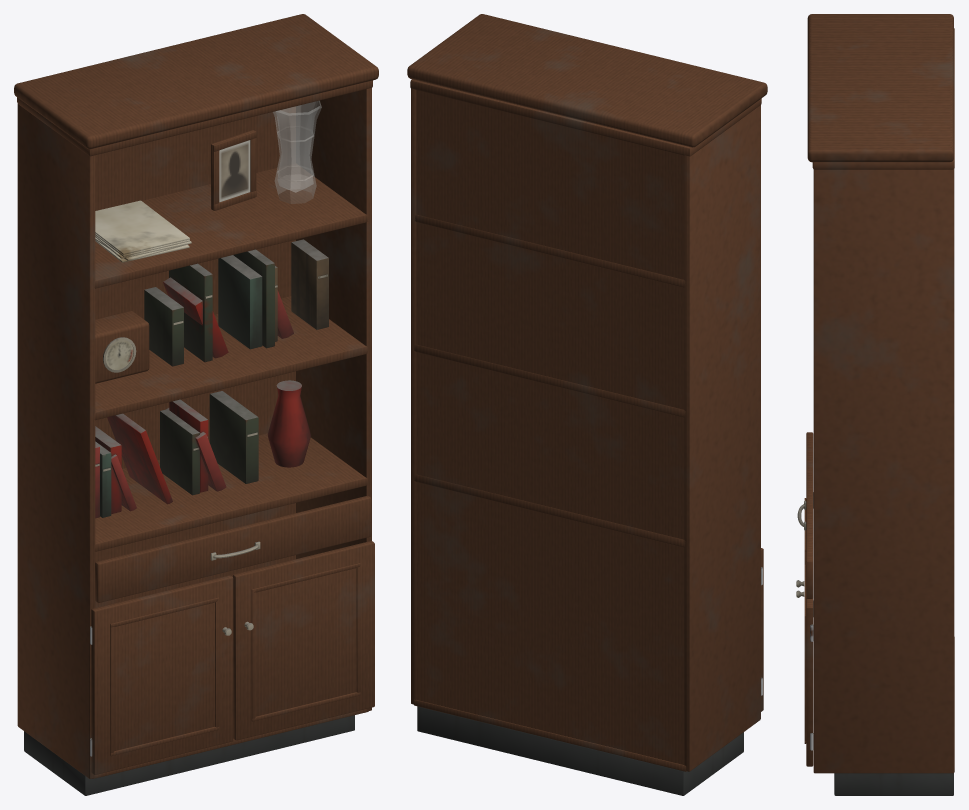
File: SM_WallUnit_Shelves.fbx
3 views of the same model, side by side, from view 1: azimuth 30°, elevation 25°; view 2: azimuth 150°, elevation 25°; view 3: azimuth 270°, elevation 25° (orthographic). The views are drawn at different scales.
Parts seen in each view (by area): view 1: SM_WallUnit_Shelves; view 2: SM_WallUnit_Shelves; view 3: SM_WallUnit_Shelves.
Part boxes in pixels (x1,y1,x2,y2): SM_WallUnit_Shelves: [14, 14, 378, 795]; SM_WallUnit_Shelves: [407, 14, 767, 795]; SM_WallUnit_Shelves: [796, 14, 954, 795].
Size of the model in its own units: 0.93 by 2.04 by 0.4503.
2 materials, 1 textured.
